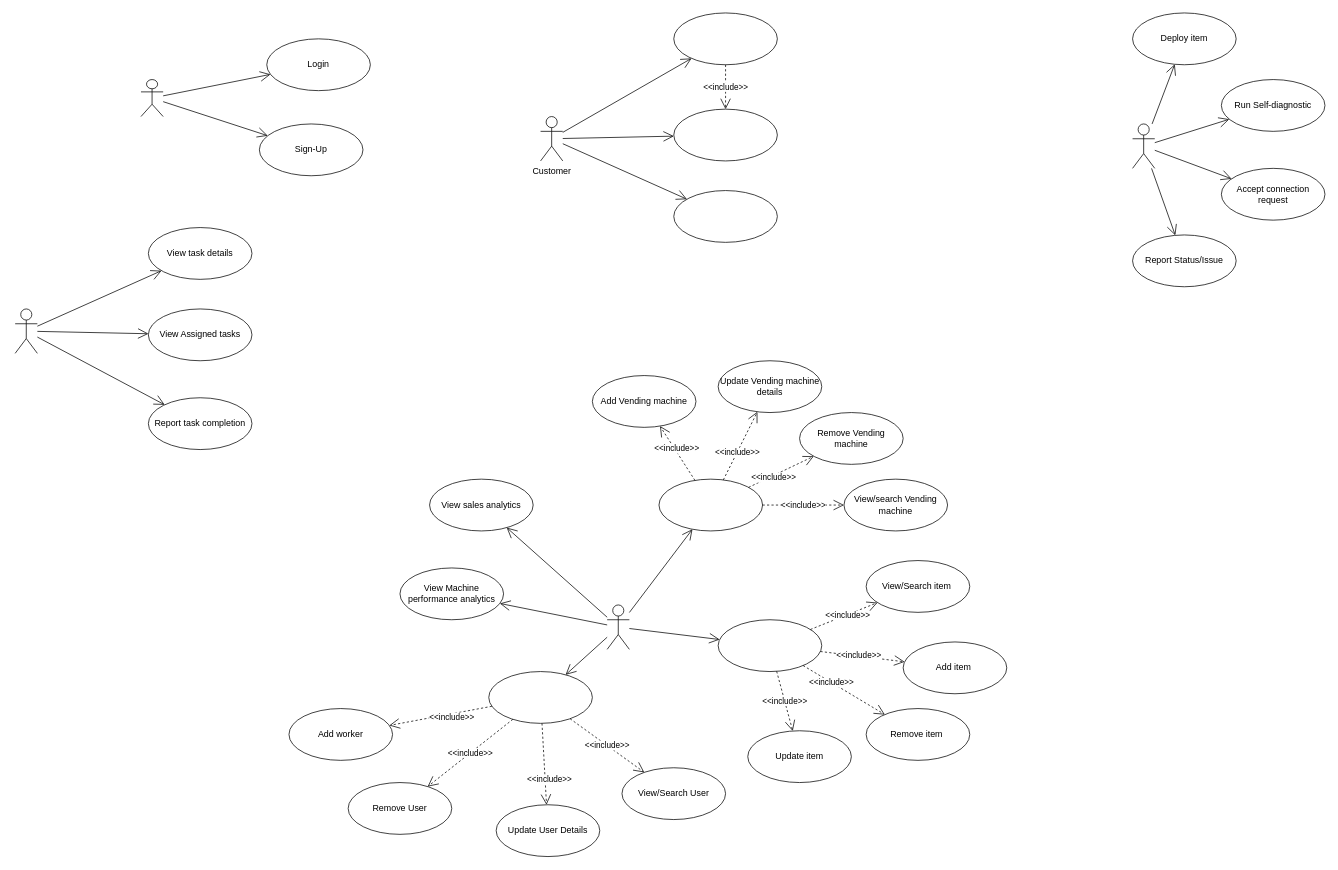
This 1338x870 diagram has some shape labels left out. Here are the shapes that lost their labels. From the top down, the centre of each, then its label:
At point (725, 38): "Buy item".
At point (151, 98): "User".
At point (725, 134): "Connect to Vending Machine".
At point (1143, 145): "Vending Machine".
At point (725, 216): "Recharge account".
At point (25, 330): "worker".
At point (710, 504): "Manage Vending Machines CRUD".
At point (617, 626): "Admin".
At point (769, 645): "Manage Items CRUD".
At point (540, 697): "<<summary>> Manage User CRUD".
